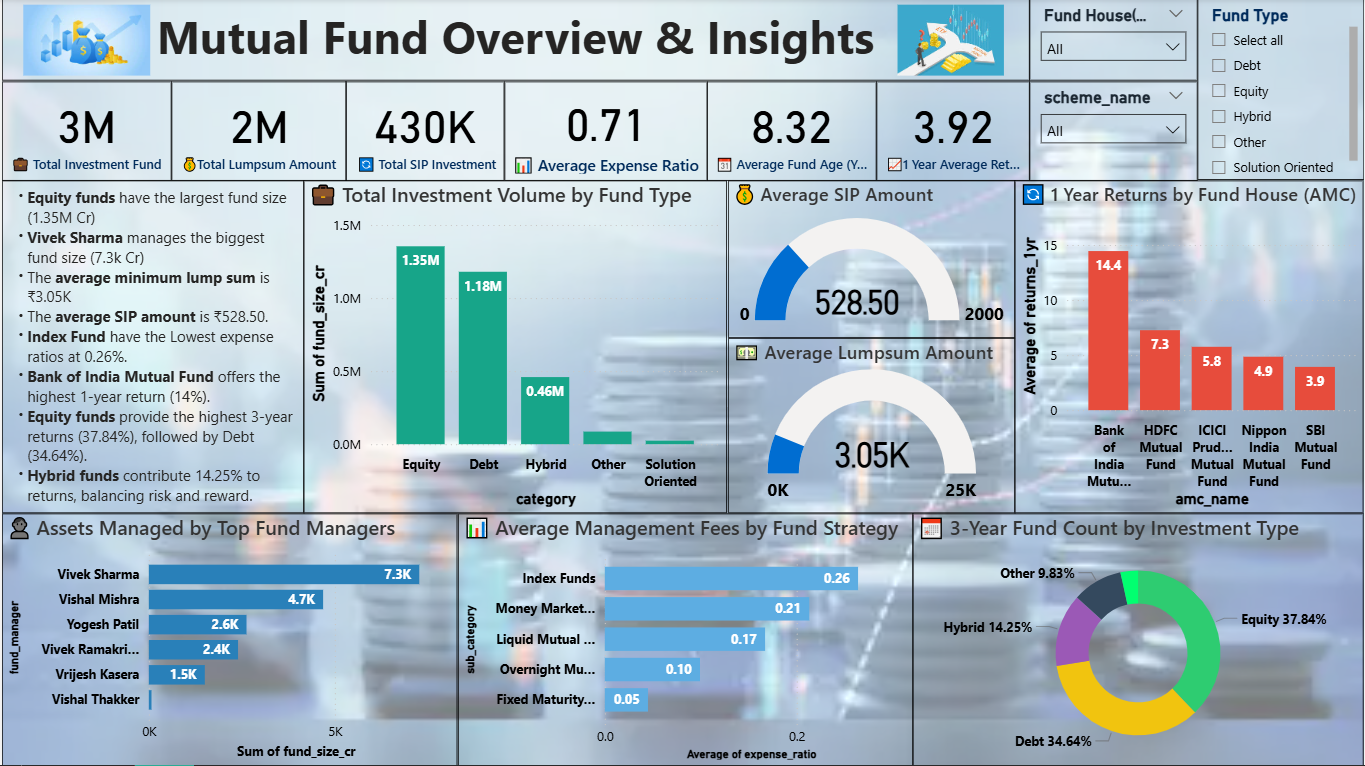

Layout of this report page (visuals, bound fields, positions):
{"tool":"powerbi","page":{"name":"Page 1","canvas":[1280,720],"ordinal":0},"visuals":[{"type":"donutChart","title":"📅 3-Year Fund Count by Investment Type","fields":{"Category":["Mutual Fund.category"],"Y":["Mutual Fund.returns_3yr"]},"box":[856.3,483,424,237.4],"z":0},{"type":"barChart","title":"📊 Average Management Fees by Fund Strategy","fields":{"Category":["Mutual Fund.sub_category"],"Y":["Mutual Fund.expense_ratio"]},"box":[428.1,483,428.1,237.4],"z":1000},{"type":"barChart","title":"👤 Assets Managed by Top Fund Managers","fields":{"Category":["Mutual Fund.fund_manager"],"Y":["Mutual Fund.fund_size_cr"]},"box":[0,483,428.1,237.4],"z":2000},{"type":"lineStackedColumnComboChart","title":"💼 Total Investment Volume by Fund Type","fields":{"Category":["Mutual Fund.category"],"Y":["Mutual Fund.fund_size_cr"]},"box":[284,170.2,397.9,312.9],"z":3000},{"type":"gauge","title":"💵 Average Lumpsum Amount","fields":{"Y":["Mutual Fund.min_lumpsum"],"MinValue":["Sum(Mutual Fund.min_lumpsum)1"],"MaxValue":["Sum(Mutual Fund.min_lumpsum)2"]},"box":[682,318.4,270.3,164.7],"z":4000},{"type":"gauge","title":"💰 Average SIP Amount","fields":{"Y":["Mutual Fund.min_sip"],"MinValue":["Sum(Mutual Fund.min_sip)1"],"MaxValue":["Sum(Mutual Fund.min_sip)2"]},"box":[682,170.2,270.3,148.2],"z":5000},{"type":"columnChart","title":"🔄 1 Year Returns by Fund House (AMC)","fields":{"Category":["Mutual Fund.amc_name"],"Y":["Mutual Fund.returns_1yr"]},"box":[952.3,170.2,328,312.9],"z":6000},{"type":"slicer","fields":{"Values":["Mutual Fund.category"]},"box":[1123.8,0,156.4,170.2],"z":7000},{"type":"slicer","fields":{"Values":["Mutual Fund.amc_name"]},"box":[966,0,157.8,76.8],"z":8000},{"type":"slicer","fields":{"Values":["Mutual Fund.scheme_name"]},"box":[966,76.8,157.8,93.3],"z":9000},{"type":"card","fields":{"Values":["Mutual Fund.fund_size_cr"]},"box":[0,76.8,159.2,93.3],"z":10000},{"type":"card","fields":{"Values":["Mutual Fund.min_lumpsum"]},"box":[159.2,76.8,164.7,93.3],"z":11000},{"type":"card","fields":{"Values":["Mutual Fund.min_sip"]},"box":[322.5,76.8,149.6,93.3],"z":12000},{"type":"card","fields":{"Values":["Mutual Fund.expense_ratio"]},"box":[472,76.8,190.7,93.3],"z":13000},{"type":"card","fields":{"Values":["Mutual Fund.fund_age_yr"]},"box":[662.8,76.8,159.2,93.3],"z":14000},{"type":"card","fields":{"Values":["Mutual Fund.returns_1yr"]},"box":[822,76.8,144.1,93.3],"z":15000},{"type":"textbox","box":[0,0,966,76.8],"z":16000},{"type":"textbox","box":[0,170.2,284,312.9],"z":17000},{"type":"image","box":[0,0,159.2,76.8],"z":18000},{"type":"image","box":[817.8,0,148.2,76.8],"z":19000}]}

Visuals, with their boxes in screenshot pixels (x1, y1, x2, y2), scaled from the page's 1280x720 canvas onto the 1365x766 screenshot:
"📅 3-Year Fund Count by Investment Type" donutChart: [913,514,1364,765]
"📊 Average Management Fees by Fund Strategy" barChart: [457,514,913,765]
"👤 Assets Managed by Top Fund Managers" barChart: [0,514,457,765]
"💼 Total Investment Volume by Fund Type" lineStackedColumnComboChart: [303,181,727,514]
"💵 Average Lumpsum Amount" gauge: [727,339,1016,514]
"💰 Average SIP Amount" gauge: [727,181,1016,339]
"🔄 1 Year Returns by Fund House (AMC)" columnChart: [1016,181,1364,514]
slicer - Mutual Fund.category: [1198,0,1364,181]
slicer - Mutual Fund.amc_name: [1030,0,1198,82]
slicer - Mutual Fund.scheme_name: [1030,82,1198,181]
card - Mutual Fund.fund_size_cr: [0,82,170,181]
card - Mutual Fund.min_lumpsum: [170,82,345,181]
card - Mutual Fund.min_sip: [344,82,503,181]
card - Mutual Fund.expense_ratio: [503,82,707,181]
card - Mutual Fund.fund_age_yr: [707,82,877,181]
card - Mutual Fund.returns_1yr: [877,82,1030,181]
textbox: [0,0,1030,82]
textbox: [0,181,303,514]
image: [0,0,170,82]
image: [872,0,1030,82]
